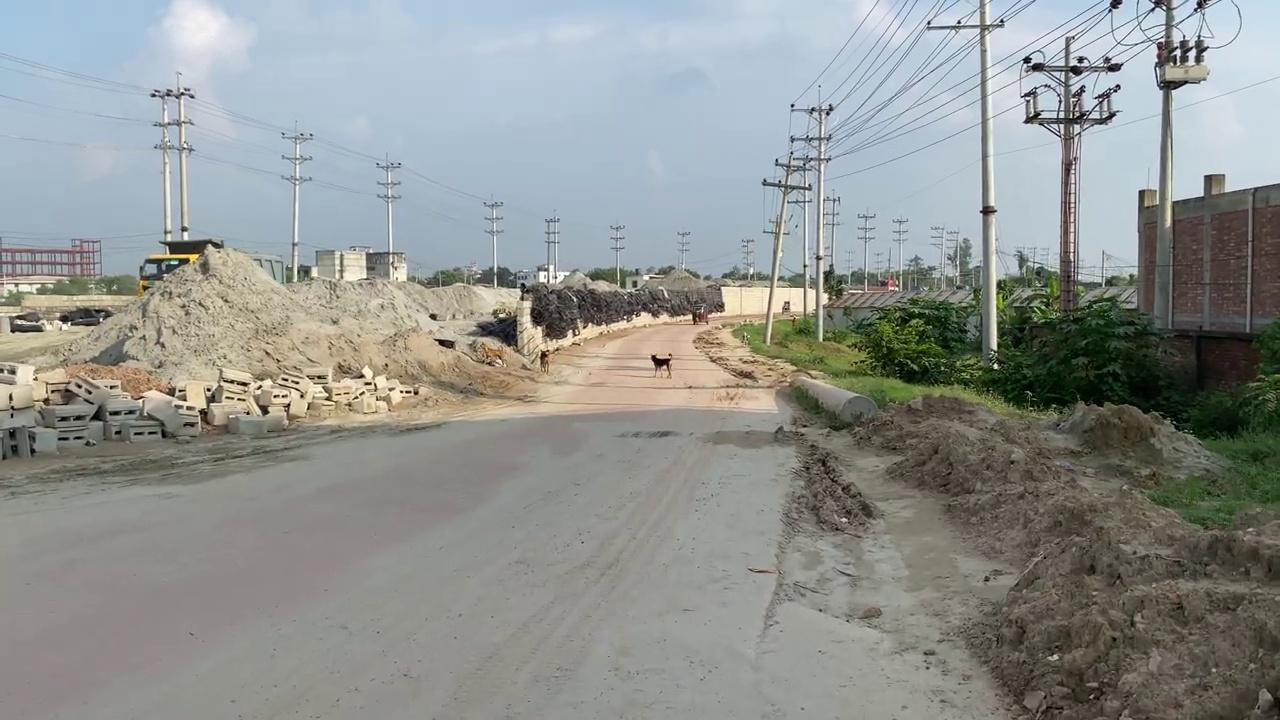Animal: (650, 352, 672, 378)
Broken-road: (1, 308, 1027, 718)
Fence: (0, 238, 101, 278)
Garbage: (8, 348, 408, 452)
Garbage-bin: (692, 305, 707, 324)
Pole: (976, 0, 999, 369), (1153, 1, 1177, 329), (811, 89, 833, 342), (171, 71, 194, 240)
Tree: (137, 238, 223, 296)
